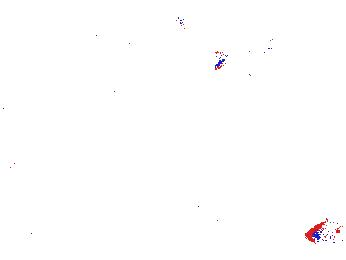X-ray fish: (38, 12, 70, 58), (310, 215, 342, 245)
redtail glassfish: (211, 37, 302, 78)
